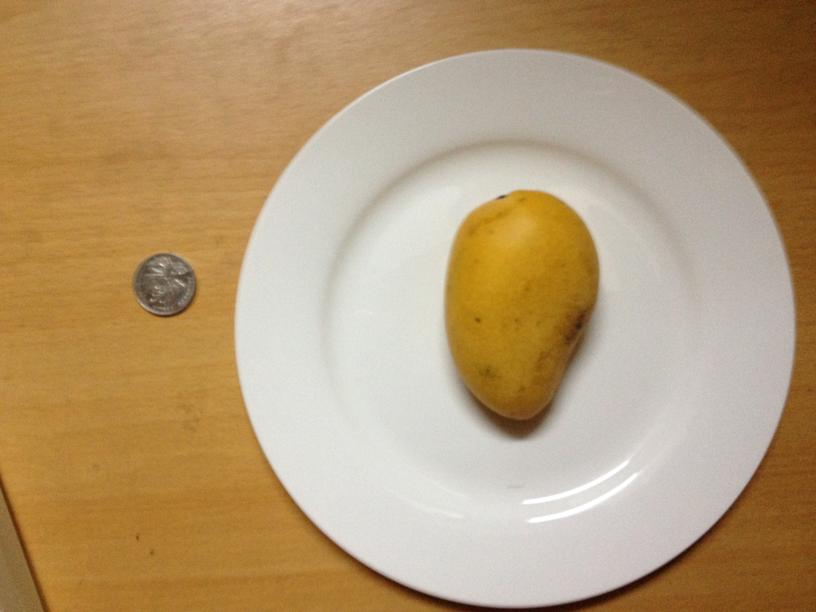coin: (131, 251, 196, 315)
mango: (443, 190, 599, 420)
